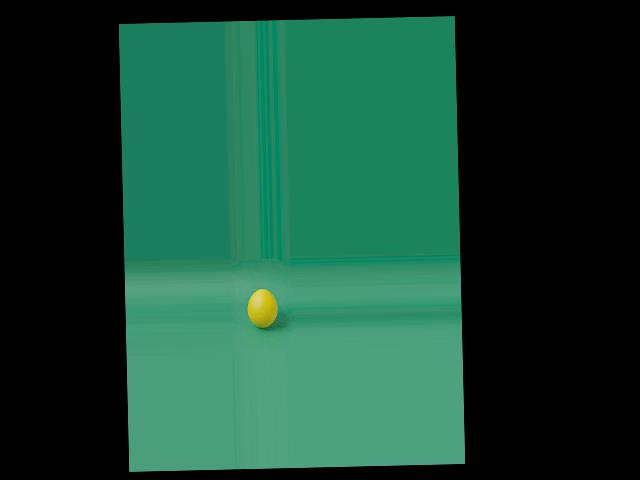egg: (246, 288, 276, 328)
